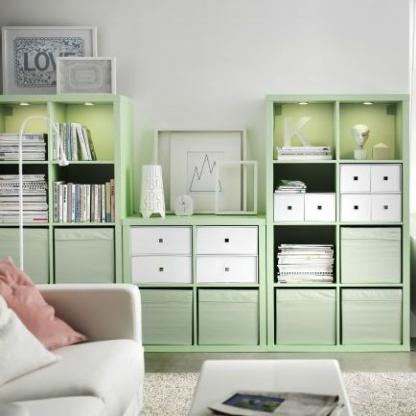lamp: (266, 94, 412, 353), (0, 94, 125, 354), (116, 215, 270, 352)
